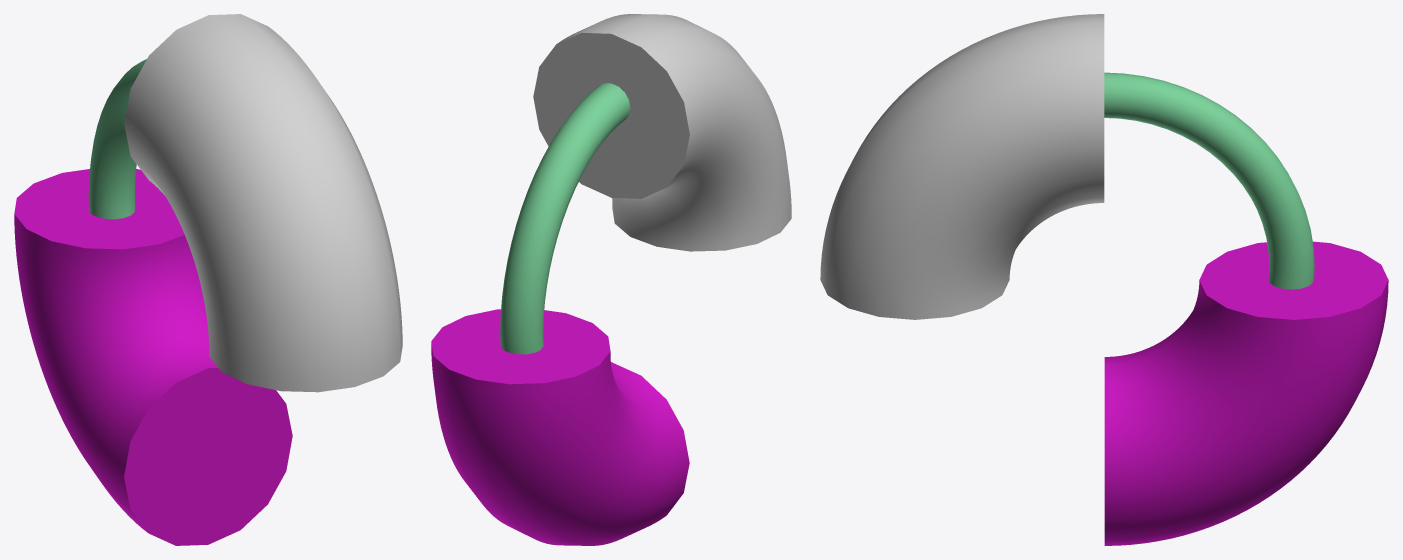
File: CWire.fbx
3 views of the same model, side by side, from view 1: azimuth 30°, elevation 25°; view 2: azimuth 150°, elevation 25°; view 3: azimuth 270°, elevation 25° (orthographic). The views are drawn at different scales.
Parts seen in each view (by area): view 1: Torus_3, Torus_4, Torus_5; view 2: Torus_4, Torus_3, Torus_5; view 3: Torus_3, Torus_4, Torus_5.
Part boxes in pixels (bbox=[...]): Torus_3: bbox=[124, 14, 402, 392]; Torus_4: bbox=[14, 169, 292, 545]; Torus_5: bbox=[88, 59, 146, 219]; Torus_4: bbox=[431, 309, 689, 545]; Torus_3: bbox=[533, 14, 791, 251]; Torus_5: bbox=[500, 83, 630, 354]; Torus_3: bbox=[820, 14, 1104, 319]; Torus_4: bbox=[1104, 241, 1388, 545]; Torus_5: bbox=[1104, 72, 1314, 289].
Bounding box in the file's own units: 100 × 300 × 300.
